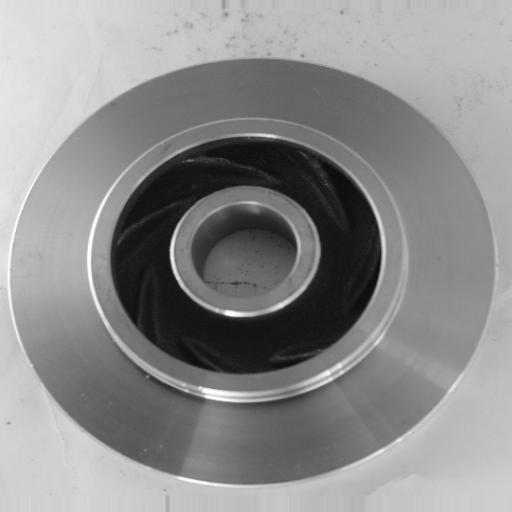polished_casting: (9, 55, 498, 490)
